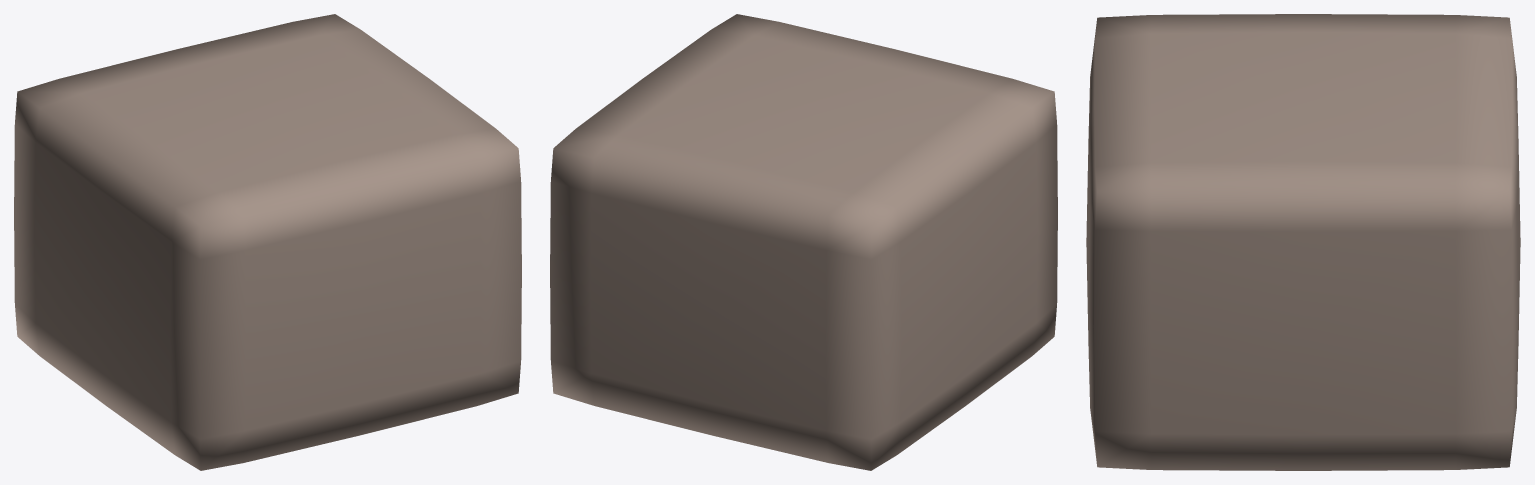
The model's file is Parcel.fbx.
3 renders of one model, left to right at view 1: azimuth 30°, elevation 25°; view 2: azimuth 150°, elevation 25°; view 3: azimuth 270°, elevation 25°, orthographic. The views are drawn at different scales.
Parts seen in each view (by area): view 1: pCube9; view 2: pCube9; view 3: pCube9.
Boxes of the visible parts, x1,y1,x2,y2 form: pCube9: [14, 14, 521, 470]; pCube9: [550, 14, 1057, 470]; pCube9: [1086, 14, 1520, 470].
Bounding box in the file's own units: 40 × 30 × 40.
